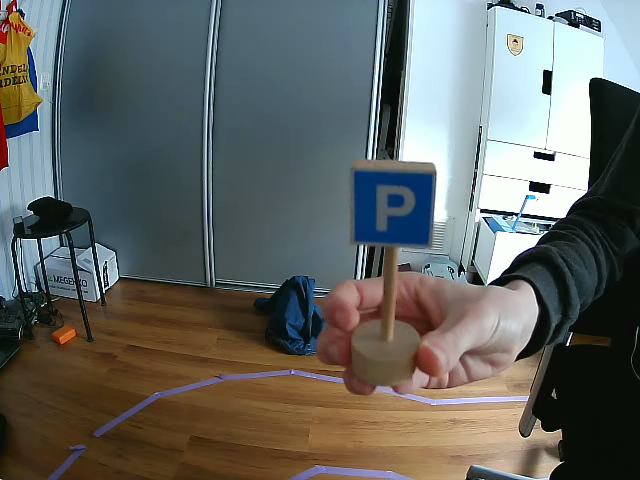parkeerbord: (350, 169, 436, 244)
